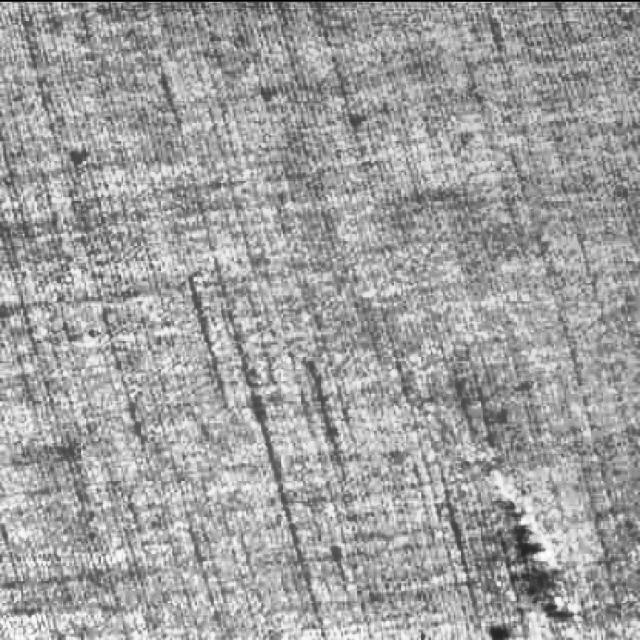thread_error: (466, 450, 588, 634)
